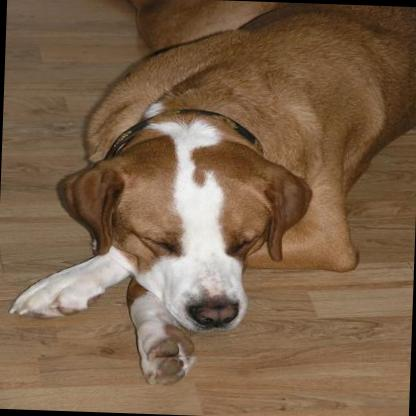Greater_Swiss_Mountain_dog: (9, 0, 416, 386)
